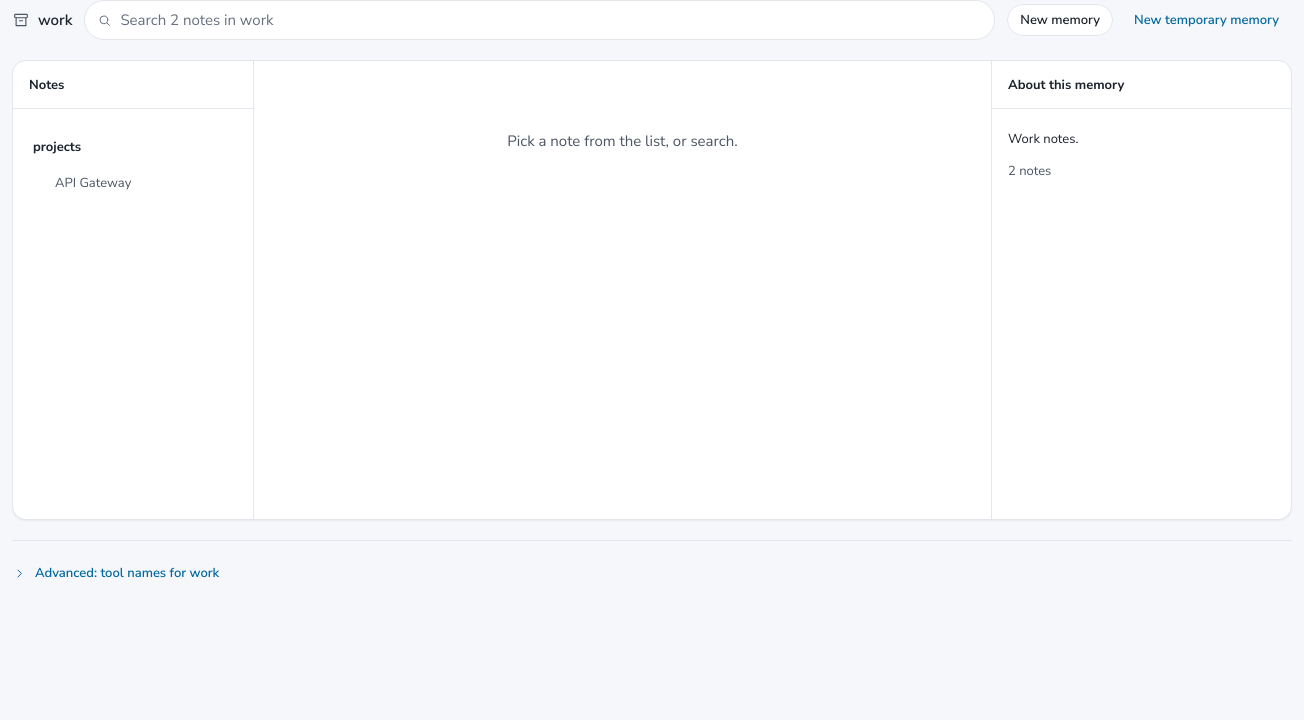
Scenario: Memories › Browse › Advanced: tool names (report §3.7) › renames a memory's tools and shows what the hub actually saved
Click the heading "Advanced: tool names for work" at (116, 573), box x1=12 y1=564 x2=219 y2=582
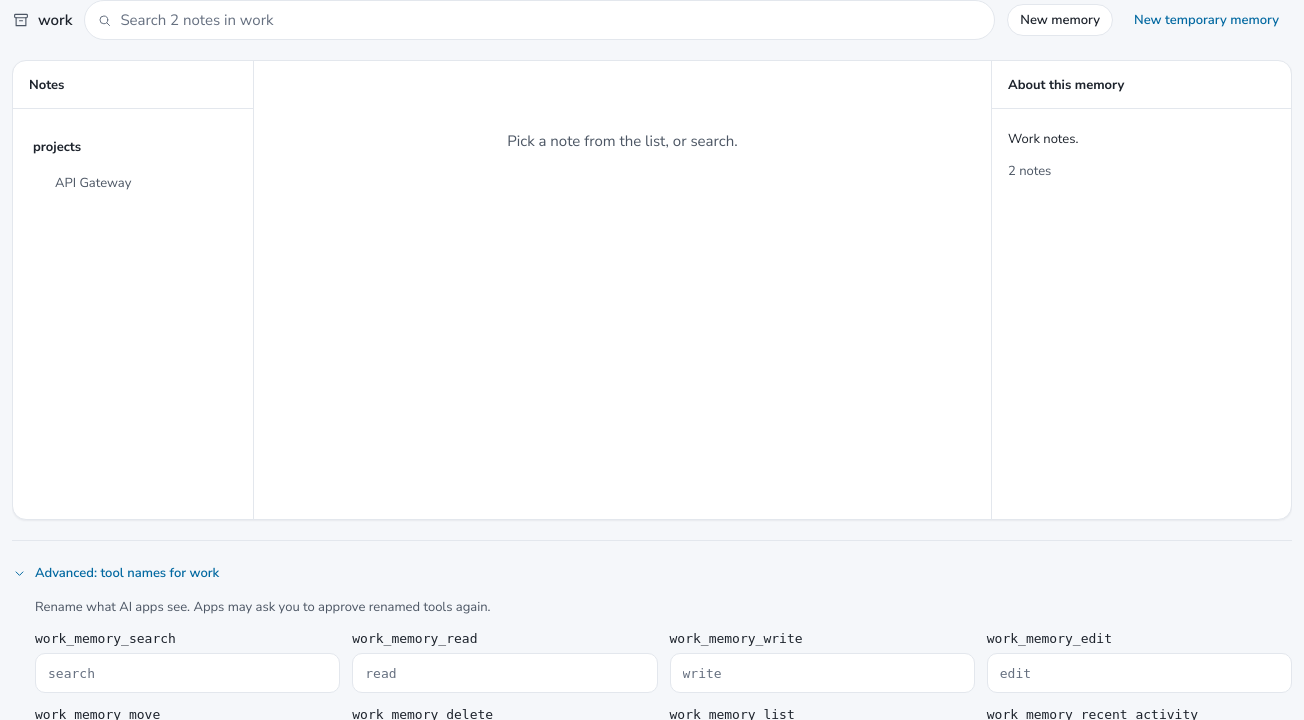
Expected: the text "Apps may ask you to approve renamed tools again" is shown, x1=35 y1=598 x2=490 y2=616
Type "find it" into the field named "New name for search" at (188, 673), box x1=35 y1=653 x2=340 y2=693
(page scrolled)
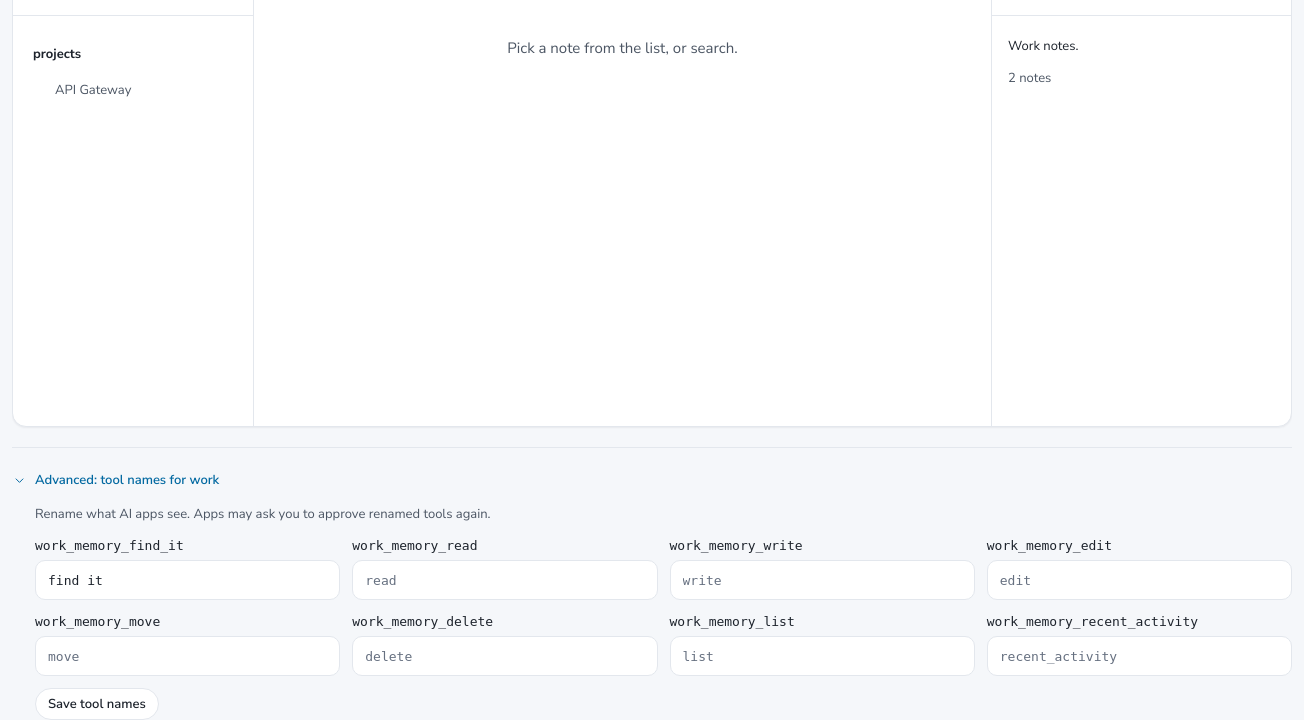
Expected: the text "work_memory_find_it" is shown, x1=35 y1=538 x2=184 y2=553
Click the button "Save tool names" at (97, 704), box x1=35 y1=688 x2=159 y2=719
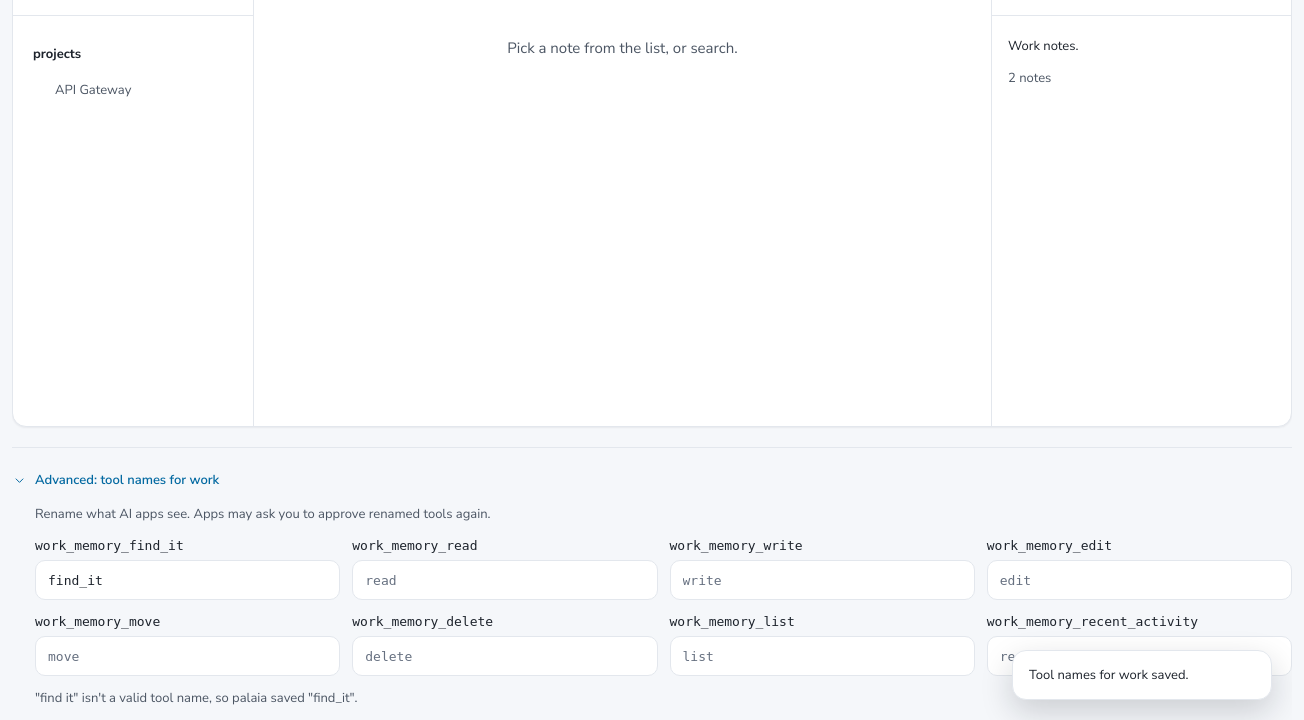
Expected: the text "isn't a valid tool name, so palaia saved \"find_it\"" is shown, x1=35 y1=689 x2=358 y2=707
